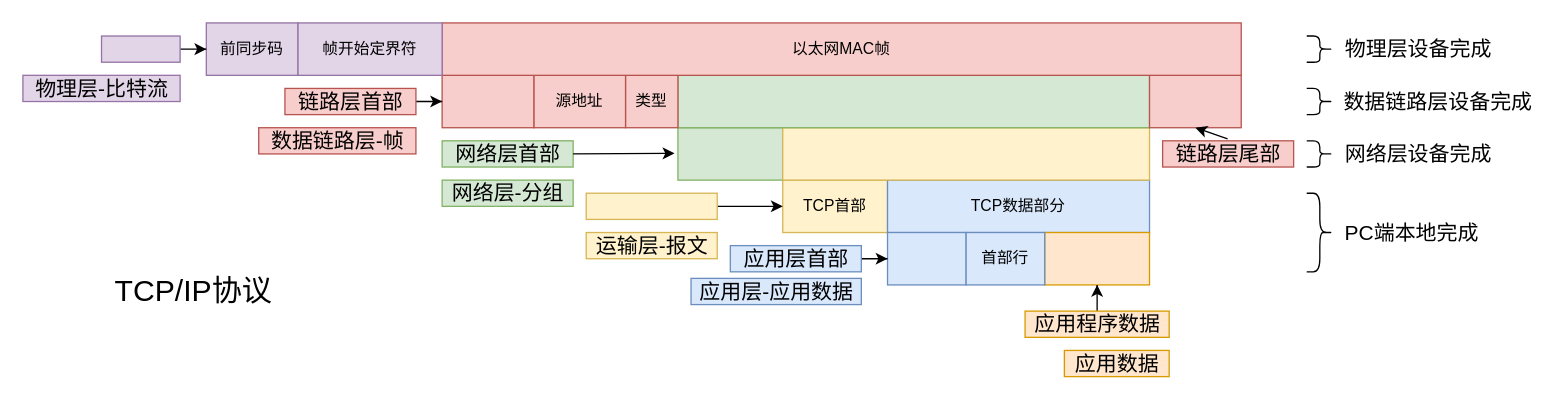
This 1565x400 diagram has some shape labels left out. Each missing label, with the centre of its shape:
FCS: the point at 1194,101
IP数据报: the point at 913,101
IP数据部分: the point at 965,153
IP首部: the point at 730,153
实体主体: the point at 1096,258
开始行: the point at 926,258
比特流: the point at 140,48
目的地址: the point at 487,101
运输层首部: the point at 651,205
